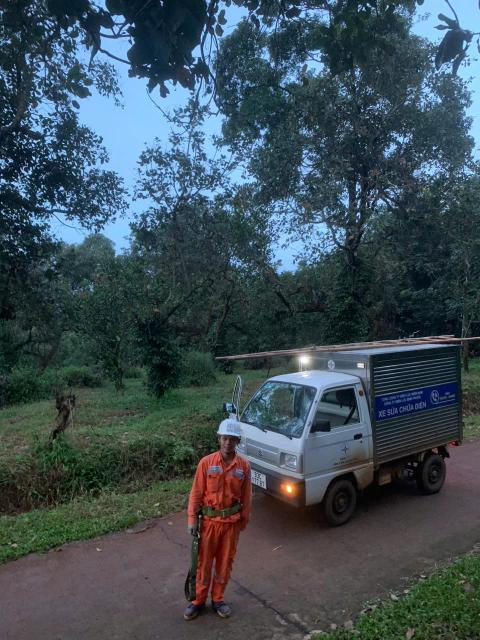harness: (196, 497, 247, 523), (185, 523, 205, 541)
helmet: (214, 419, 252, 441)
shoes: (182, 596, 208, 626), (210, 601, 236, 620)
